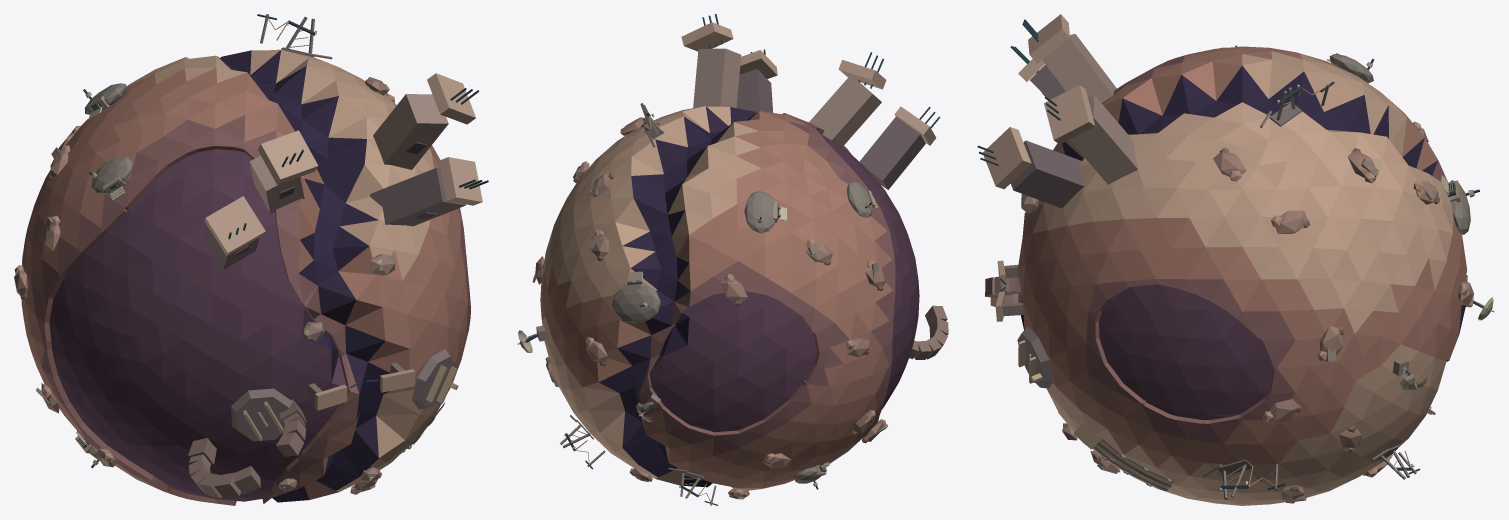
File: earth.glb
The picture shows the model from 3 angles, left to right: view 1: azimuth 30°, elevation 25°; view 2: azimuth 150°, elevation 25°; view 3: azimuth 270°, elevation 25°; orthographic projection. The views are drawn at different scales.
Visible parts, largest first — view 1: Terrain • modeled surfaces, Structures • modeled surfaces; view 2: Terrain • modeled surfaces, Structures • modeled surfaces; view 3: Terrain • modeled surfaces, Structures • modeled surfaces, Activity_salvage-crane_road • modeled surfaces.
Part boxes in pixels (x1,y1,x2,y2): Terrain • modeled surfaces: (21,50,470,505); Structures • modeled surfaces: (14,14,488,498); Terrain • modeled surfaces: (540,106,919,490); Structures • modeled surfaces: (517,14,948,505); Terrain • modeled surfaces: (1017,46,1467,505); Structures • modeled surfaces: (977,14,1494,503); Activity_salvage-crane_road • modeled surfaces: (1074,423,1173,491).
Size of the model in its own units: 2.03 by 2.21 by 2.31.
